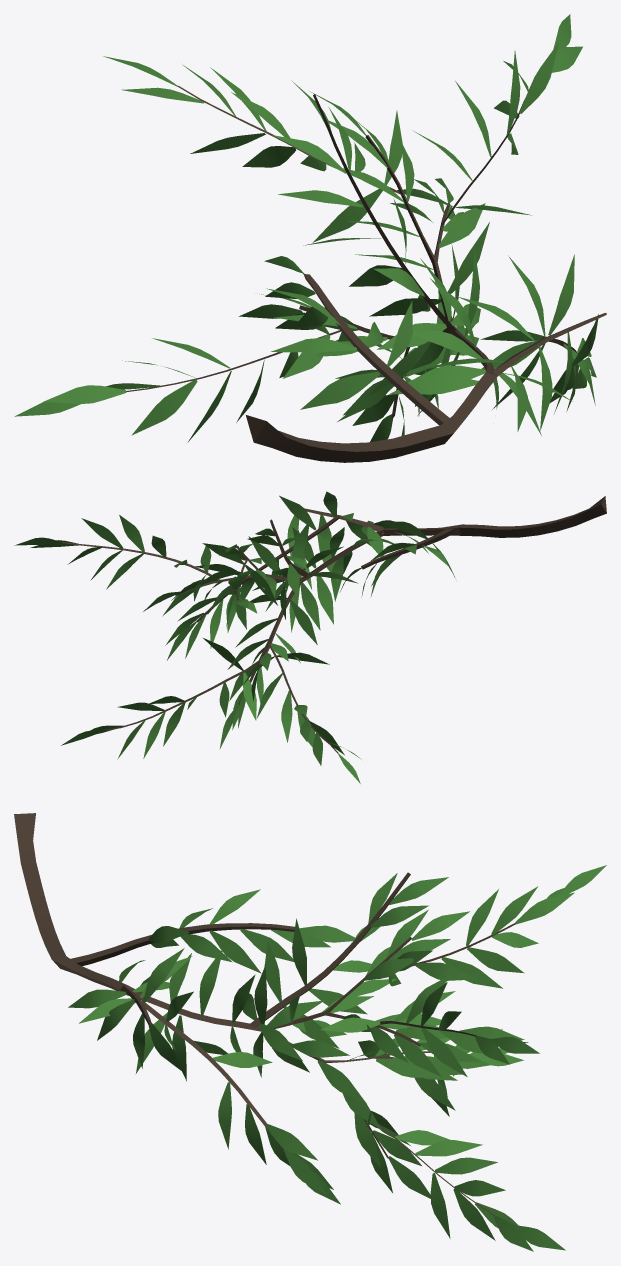
File: branch_leafy_A.fbx
The picture shows the model from 3 angles, top to bottom: view 1: azimuth 30°, elevation 25°; view 2: azimuth 150°, elevation 25°; view 3: azimuth 270°, elevation 25°; orthographic projection. The views are drawn at different scales.
Parts seen in each view (by area): view 1: branch_leafy_A; view 2: branch_leafy_A; view 3: branch_leafy_A.
Part boxes in pixels (left/top/right/bottom): branch_leafy_A: left=14, top=14, right=606, bottom=462; branch_leafy_A: left=14, top=491, right=606, bottom=783; branch_leafy_A: left=14, top=813, right=606, bottom=1251.
Size of the model in its own units: 155 by 89.82 by 156.
